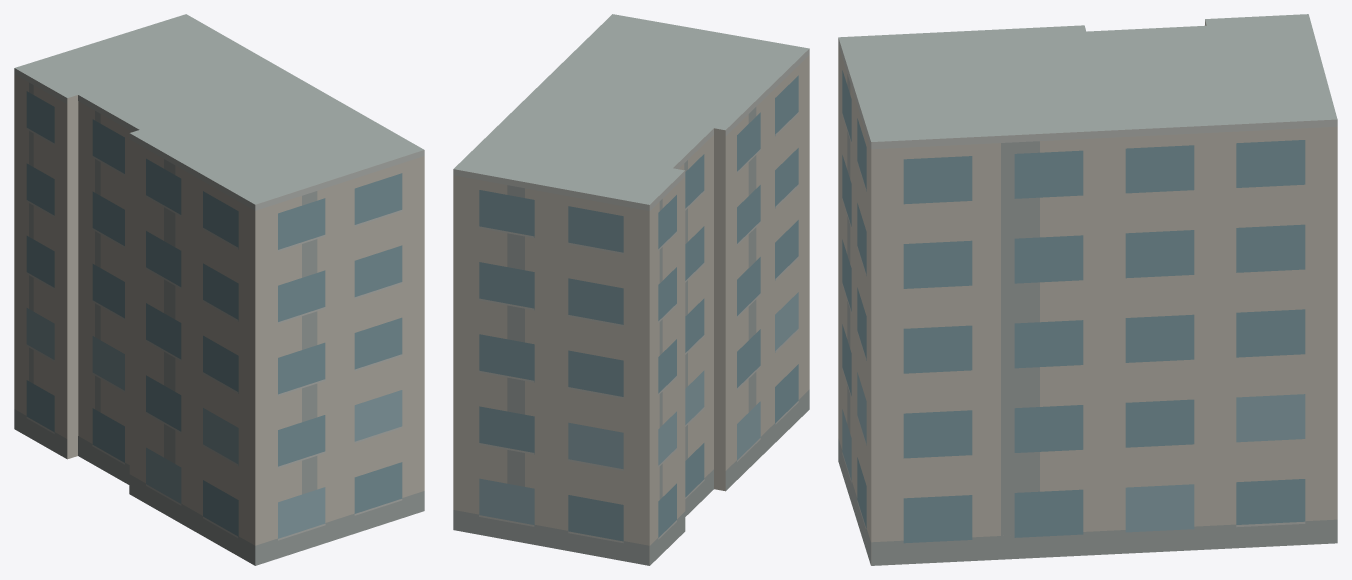
File: survey-upis-32872599.glb
3 views of the same model, side by side, from view 1: azimuth 30°, elevation 25°; view 2: azimuth 150°, elevation 25°; view 3: azimuth 270°, elevation 25° (orthographic). The views are drawn at different scales.
Parts seen in each view (by area): view 1: survey-upis-32872599.tmp; view 2: survey-upis-32872599.tmp; view 3: survey-upis-32872599.tmp.
Part boxes in pixels (x1,y1,x2,y2): survey-upis-32872599.tmp: (14,14,424,565); survey-upis-32872599.tmp: (453,14,809,565); survey-upis-32872599.tmp: (838,14,1337,565).
Size of the model in its own units: 9.28 by 14.3 by 15.28.
